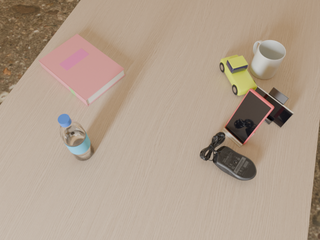book: (39, 34, 125, 106)
bottle: (58, 114, 94, 161)
cup: (250, 40, 286, 79)
mouse: (200, 132, 256, 180)
phone: (225, 88, 275, 144), (255, 86, 294, 127)
toy_car: (220, 55, 257, 95)
